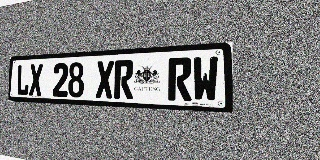2: (53, 63, 68, 97)
8: (68, 62, 84, 98)
L: (16, 64, 30, 96)
R: (168, 57, 192, 101), (114, 60, 134, 99)
W: (192, 56, 218, 102)
X: (96, 61, 114, 99), (29, 64, 43, 96)
